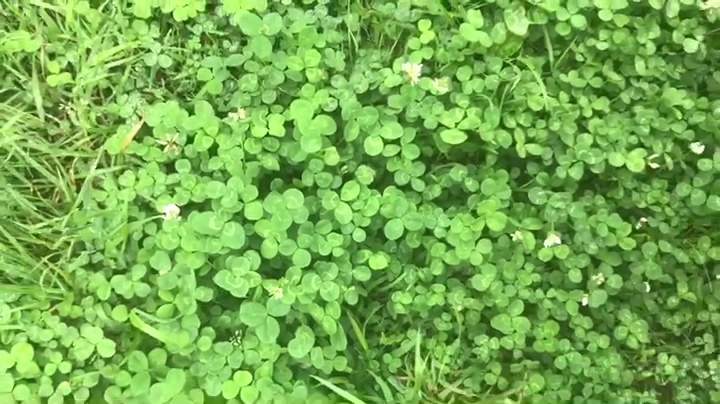4-clover: (264, 188, 311, 233)
